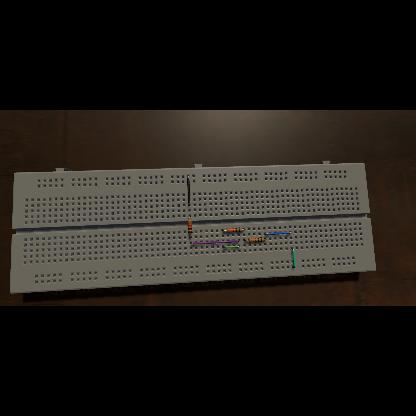breadboard: (10, 160, 376, 293)
resistor: (226, 228, 242, 233), (249, 237, 264, 242), (188, 219, 192, 234)
wire: (191, 240, 240, 245), (290, 248, 296, 268), (264, 232, 292, 236), (223, 245, 240, 249), (188, 176, 190, 206), (221, 230, 226, 232), (190, 235, 192, 238), (244, 239, 249, 240), (264, 238, 266, 240), (242, 230, 245, 231), (190, 216, 190, 220)
